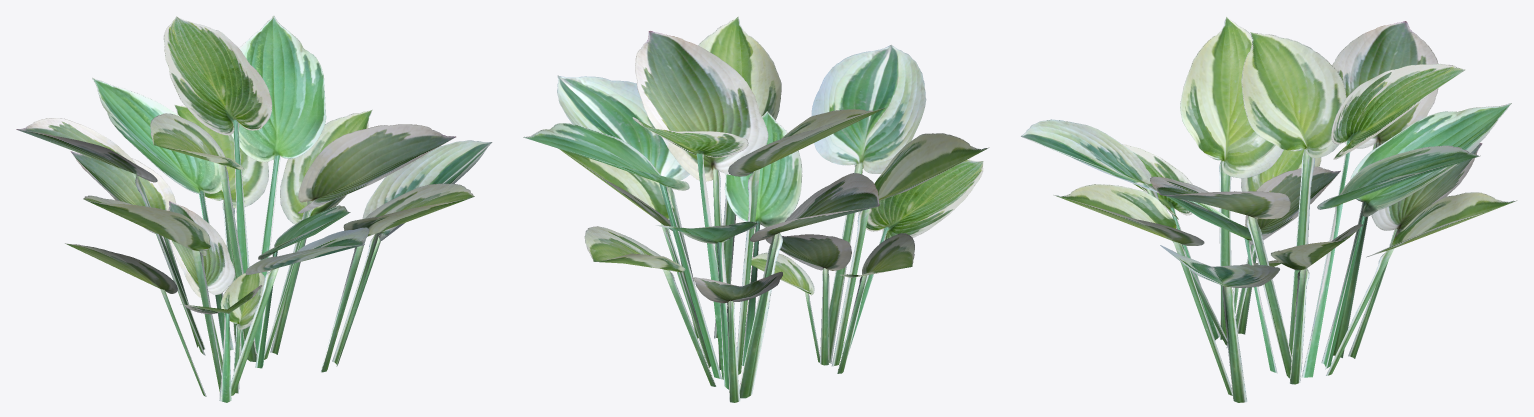
The model's file is plant_small_wg_00W_wild.fbx.
3 renders of one model, left to right at view 1: azimuth 30°, elevation 25°; view 2: azimuth 150°, elevation 25°; view 3: azimuth 270°, elevation 25°, orthographic. The views are drawn at different scales.
Visible parts, largest first — view 1: plant_small_wg_00W_wild; view 2: plant_small_wg_00W_wild; view 3: plant_small_wg_00W_wild.
Boxes of the visible parts, x1,y1,x2,y2 form: plant_small_wg_00W_wild: (16, 15, 492, 402); plant_small_wg_00W_wild: (523, 16, 989, 402); plant_small_wg_00W_wild: (1021, 16, 1517, 402).
Bounding box in the file's own units: 83.16 × 55.72 × 82.83.
